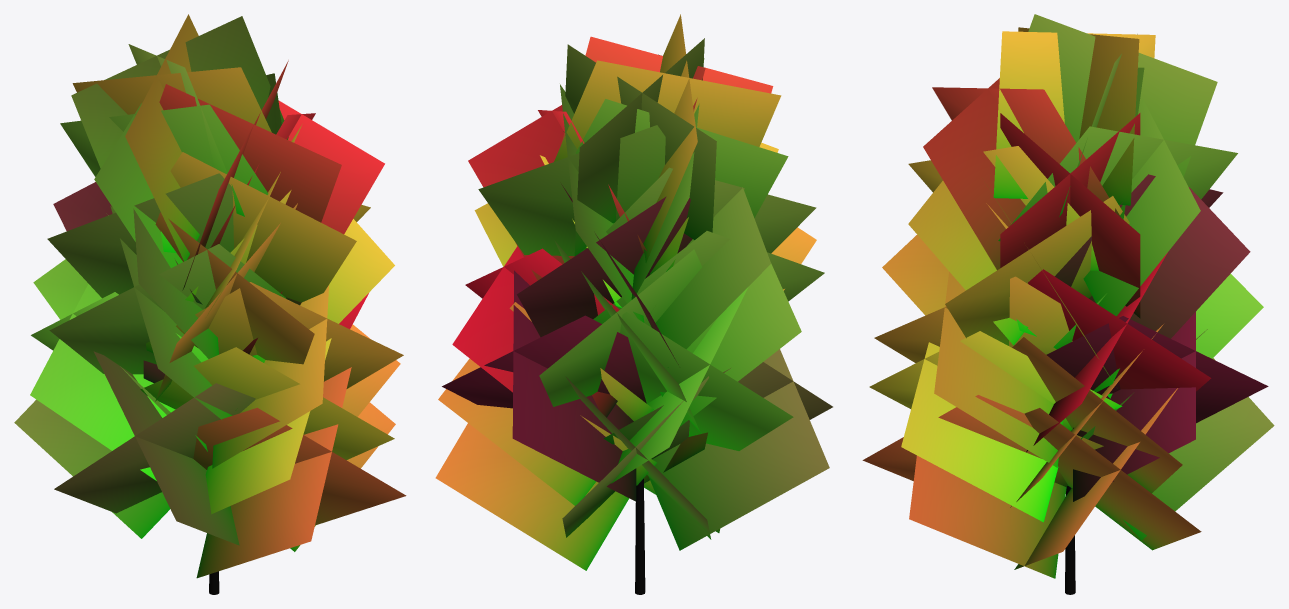
Rendered from Tree_16.fbx.
3 renders of one model, left to right at view 1: azimuth 30°, elevation 25°; view 2: azimuth 150°, elevation 25°; view 3: azimuth 270°, elevation 25°, orthographic.
Parts seen in each view (by area): view 1: Tree_16; view 2: Tree_16; view 3: Tree_16.
Boxes of the visible parts, <box> form: Tree_16: <box>14,14,406,594</box>; Tree_16: <box>435,14,832,594</box>; Tree_16: <box>862,14,1274,594</box>.
Size of the model in its own units: 424 by 633 by 424.
